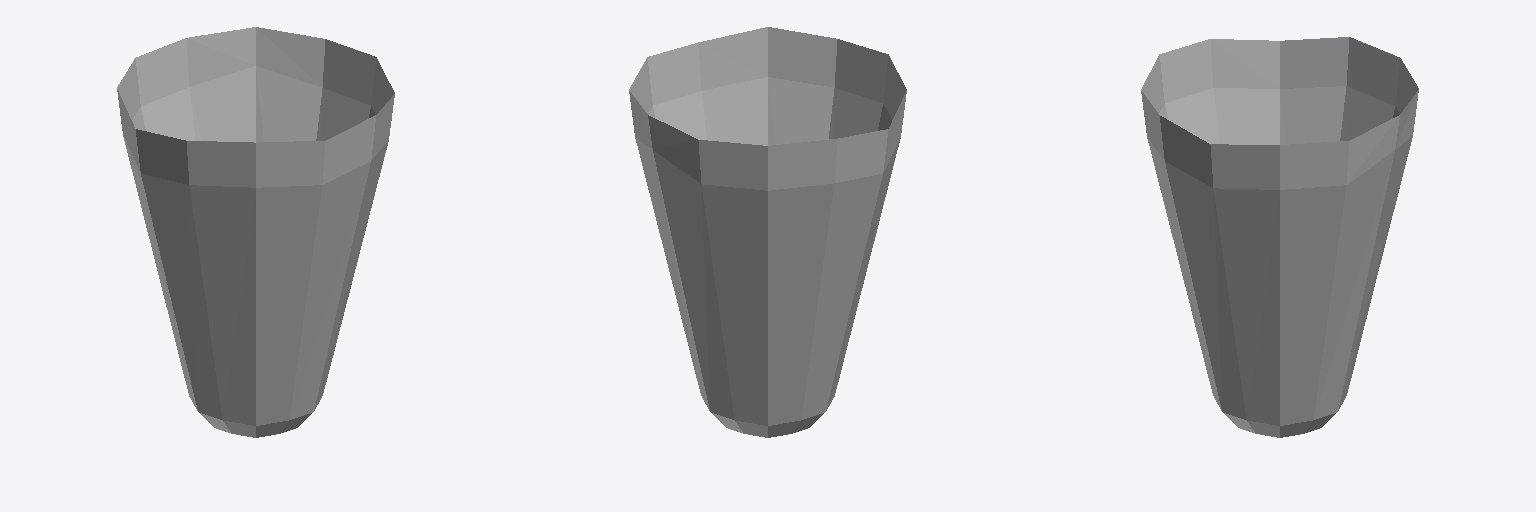
Rendered from stone_pillar_side.obj.
The picture shows the model from 3 angles: view 1: azimuth 30°, elevation 25°; view 2: azimuth 150°, elevation 25°; view 3: azimuth 270°, elevation 25°; orthographic projection.
Visible parts, largest first — view 1: Cylinder; view 2: Cylinder; view 3: Cylinder.
Boxes of the visible parts, <box> form: Cylinder: <box>117,27,394,437</box>; Cylinder: <box>629,27,906,437</box>; Cylinder: <box>1141,37,1418,437</box>.
Size of the model in its own units: 5.01 by 6.85 by 5.01.